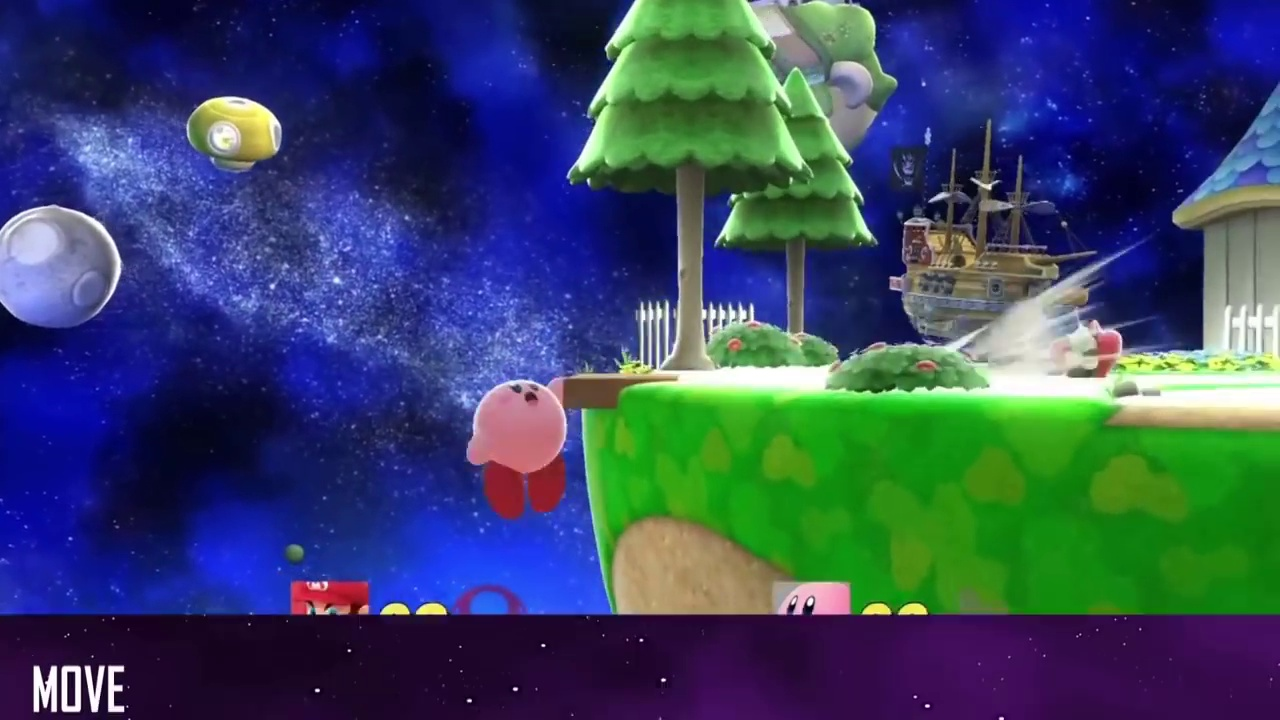Mario: (1040, 293, 1122, 380)
